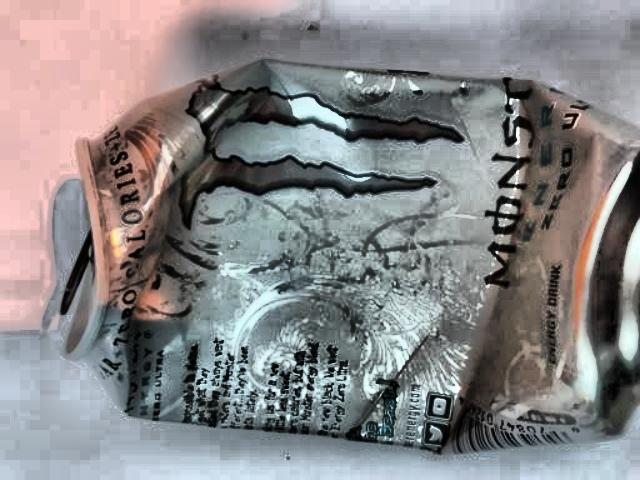Bottles: (45, 41, 640, 480)
